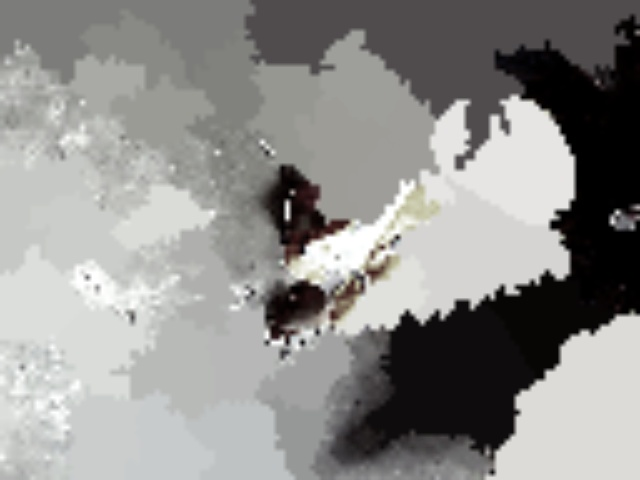eight: (511, 141, 578, 198)
